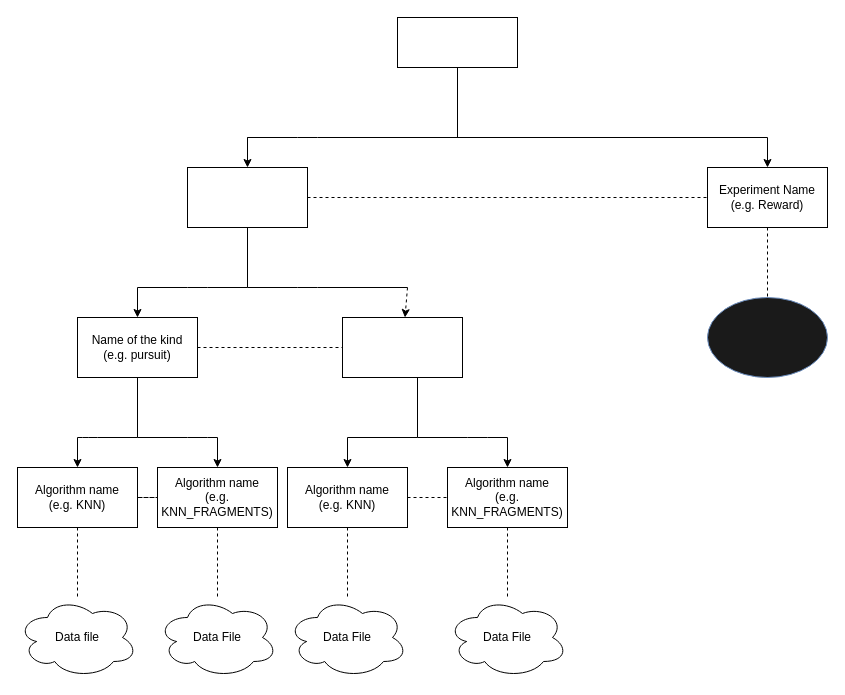
Some shapes in this 845 by 695 pixel diagram are drawn without their labels. Here are the shapes that lost their labels. From the top down, the box of each, then its label:
(396, 16, 518, 68): Project Name (e.g. Monkey 1)
(186, 166, 308, 228): Experiment Name (e.g. Direction)
(342, 316, 462, 378): Name of the kind (e.g. saccade)
(706, 296, 828, 378): SAME AS LEFT BRANCH
